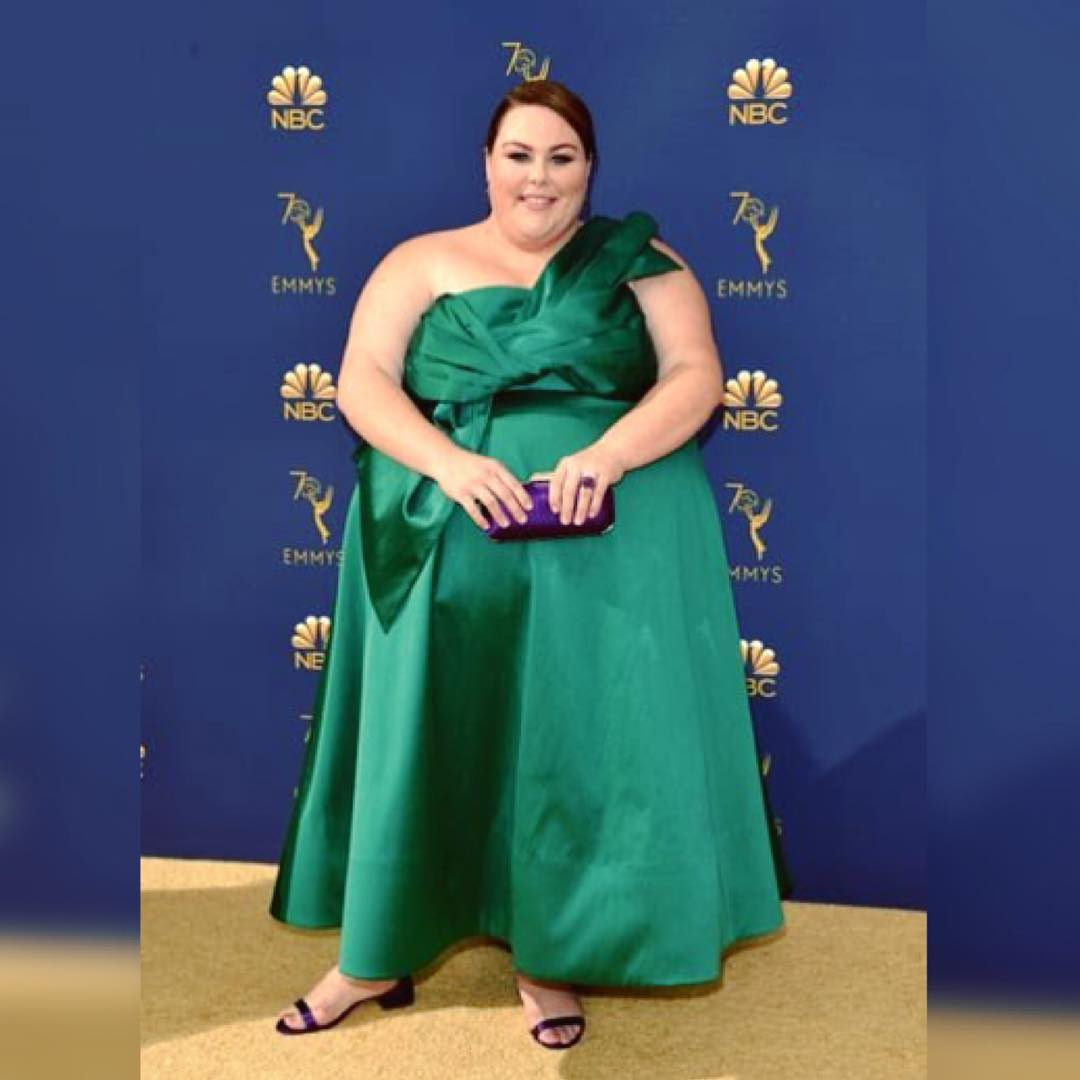hand: (548, 451, 605, 522)
